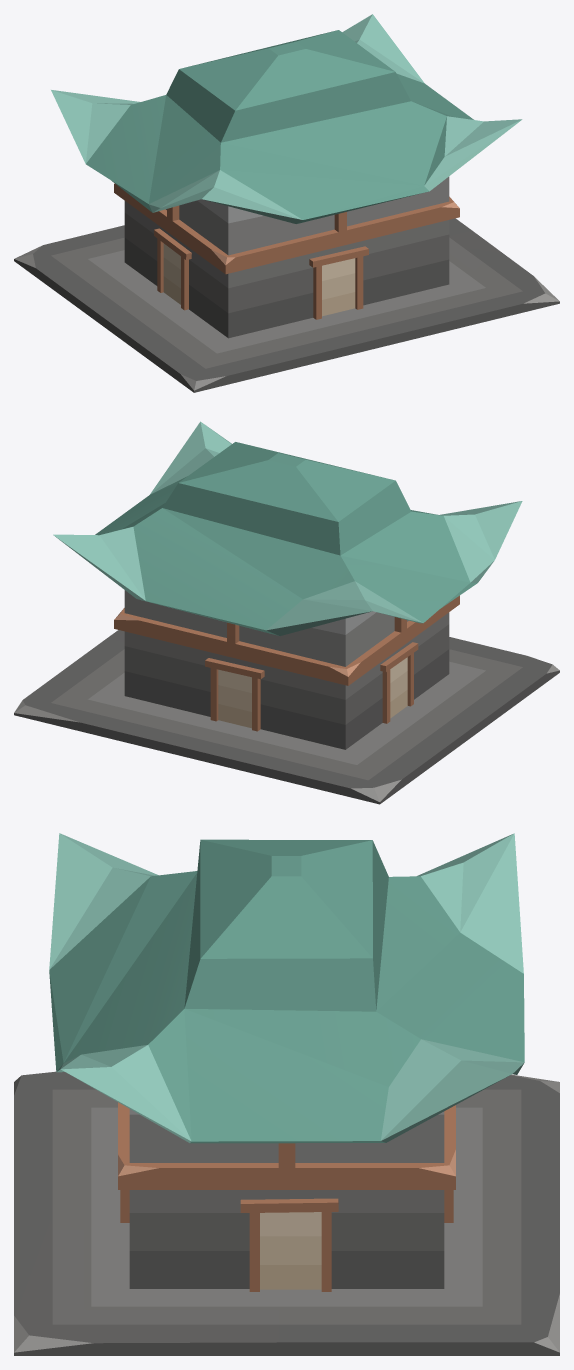
The model's file is building_9.fbx.
3 views of the same model, one above another, from view 1: azimuth 30°, elevation 25°; view 2: azimuth 150°, elevation 25°; view 3: azimuth 270°, elevation 25° (orthographic). The views are drawn at different scales.
Visible parts, largest first — view 1: building_9; view 2: building_9; view 3: building_9.
Boxes of the visible parts, x1=… form: building_9: x1=14, y1=14, x2=559, y2=392; building_9: x1=14, y1=421, x2=559, y2=804; building_9: x1=14, y1=833, x2=559, y2=1355.
Bounding box in the file's own units: 1537 × 939 × 1310.
